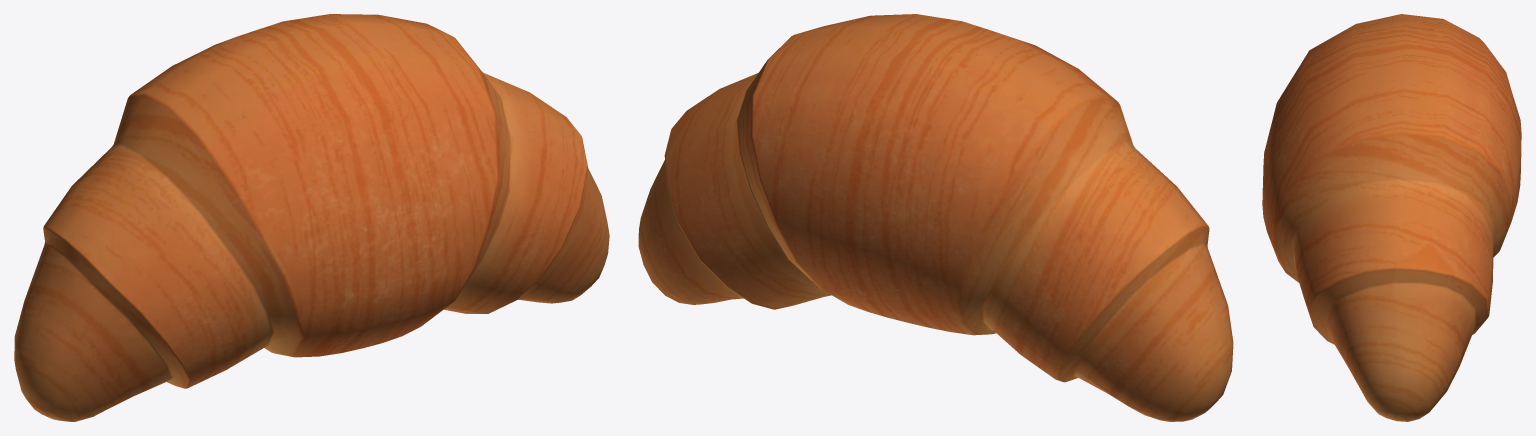
File: 0-croissant.fbx
3 views of the same model, side by side, from view 1: azimuth 30°, elevation 25°; view 2: azimuth 150°, elevation 25°; view 3: azimuth 270°, elevation 25° (orthographic). The views are drawn at different scales.
Parts seen in each view (by area): view 1: 0-croissant; view 2: 0-croissant; view 3: 0-croissant.
Boxes of the visible parts, <box> form: 0-croissant: <box>14,14,609,421</box>; 0-croissant: <box>638,14,1233,421</box>; 0-croissant: <box>1262,14,1521,421</box>.
Bounding box in the file's own units: 85.27 × 45.82 × 39.01.
